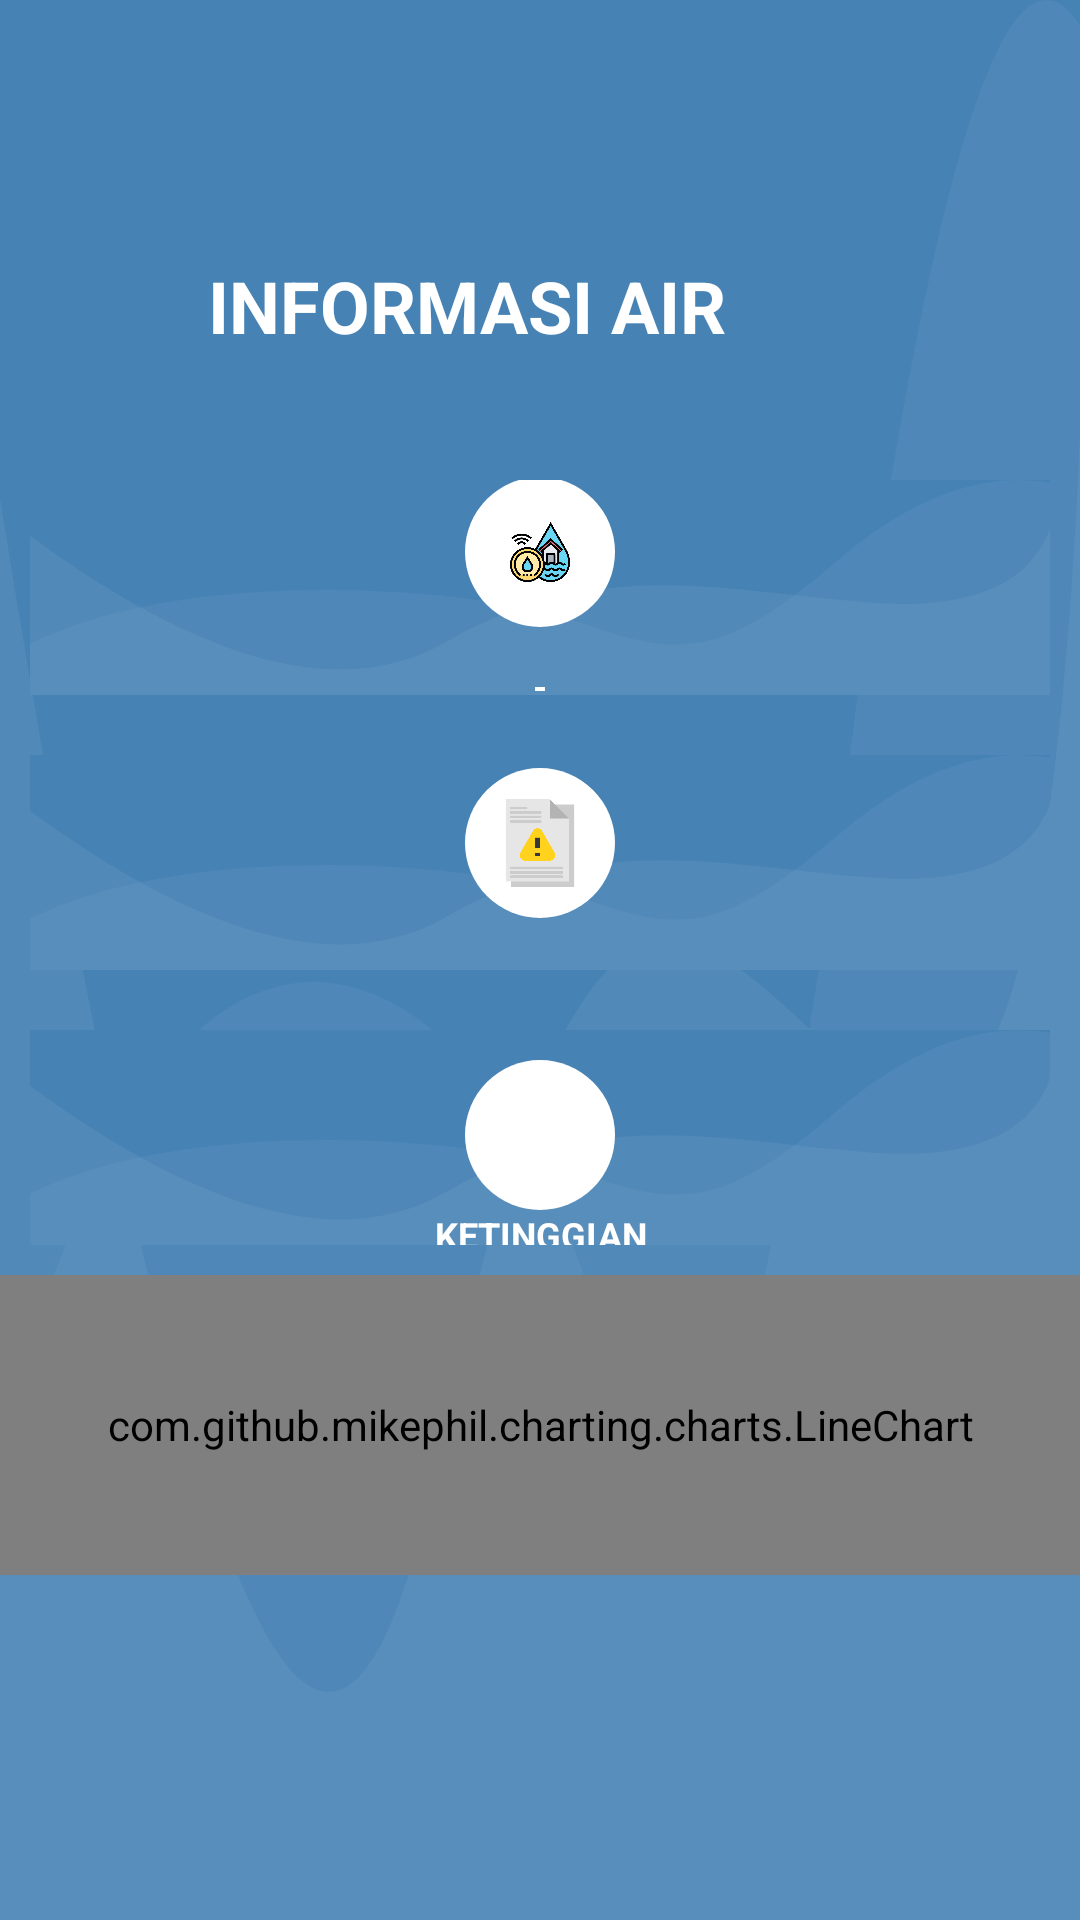

Screen size 1080×1920. Icon name, then its center in pixels as (x,y):
alert: (540,843)
sensor: (540,553)
